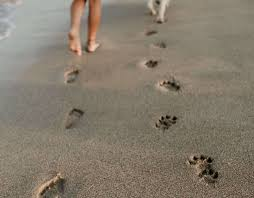human_footprint: (50, 58, 242, 190)
